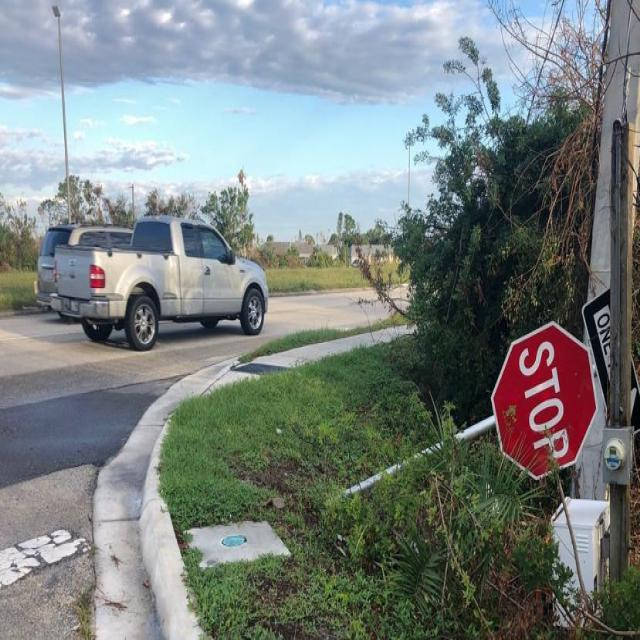stop-sign: (474, 329, 582, 461)
